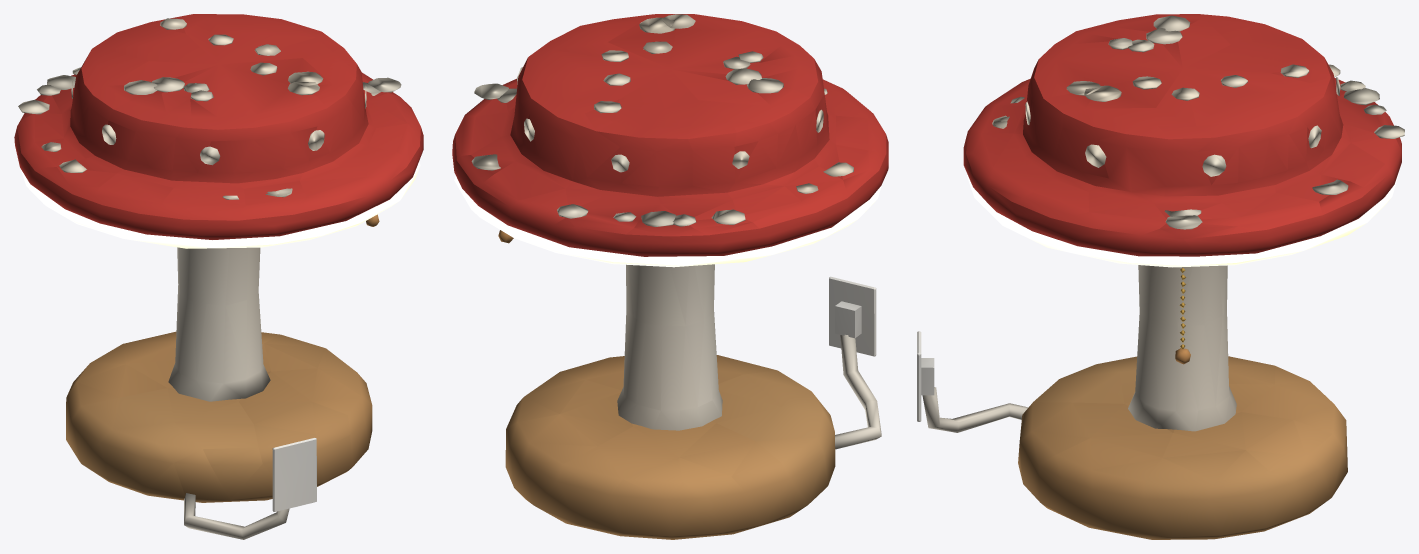
Rendered from den_toadstool_lamp_lod2.glb.
3 renders of one model, left to right at view 1: azimuth 30°, elevation 25°; view 2: azimuth 150°, elevation 25°; view 3: azimuth 270°, elevation 25°, orthographic. The views are drawn at different scales.
Visible parts, largest first — view 1: den_toadstool_lamp.001; view 2: den_toadstool_lamp.001; view 3: den_toadstool_lamp.001.
Part boxes in pixels (x1,y1,x2,y2): den_toadstool_lamp.001: (14, 14, 423, 539); den_toadstool_lamp.001: (452, 14, 888, 539); den_toadstool_lamp.001: (917, 14, 1404, 539).
Bounding box in the file's own units: 24.27 × 24.66 × 26.72.
